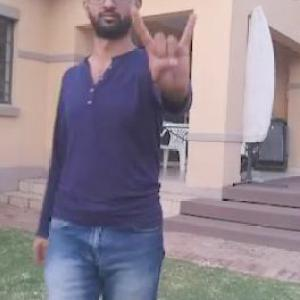takeoff-hand: (122, 7, 206, 104)
